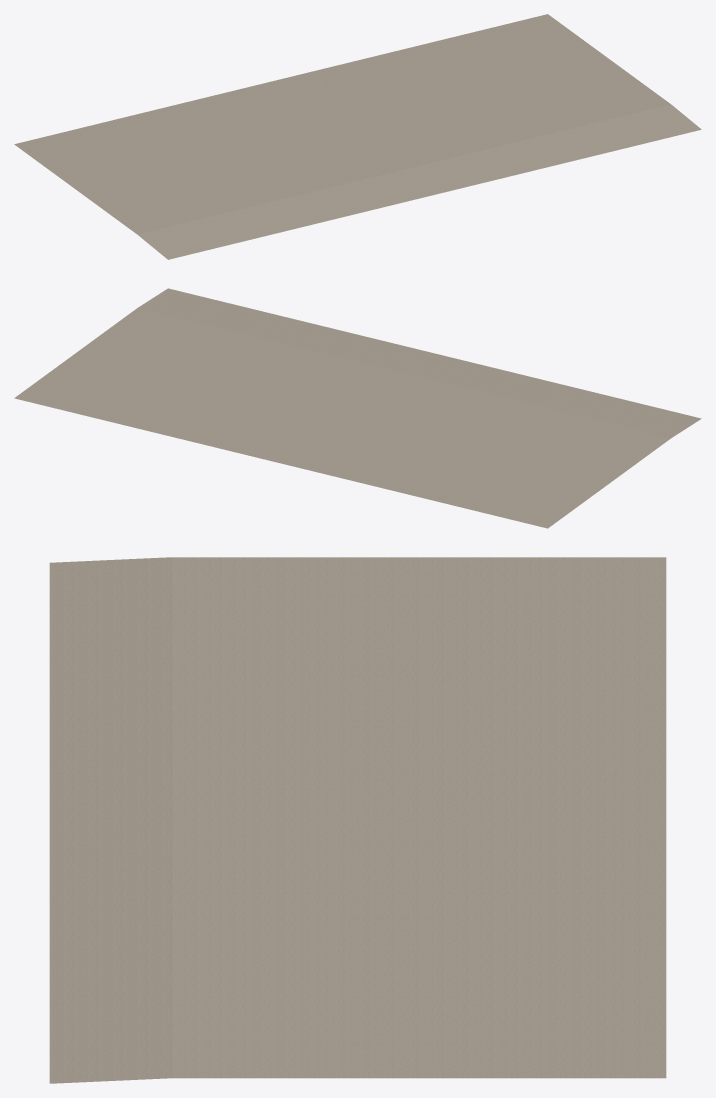
The model's file is playa.obj.
The picture shows the model from 3 angles, top to bottom: view 1: azimuth 30°, elevation 25°; view 2: azimuth 150°, elevation 25°; view 3: azimuth 270°, elevation 25°; orthographic projection. The views are drawn at different scales.
Visible parts, largest first — view 1: Playa; view 2: Playa; view 3: Playa.
Part boxes in pixels (bbox=[...]): Playa: bbox=[14, 14, 701, 259]; Playa: bbox=[14, 288, 701, 528]; Playa: bbox=[49, 557, 666, 1083].
Size of the model in its own units: 100 by 0.5 by 50.
1 material, 1 textured.
